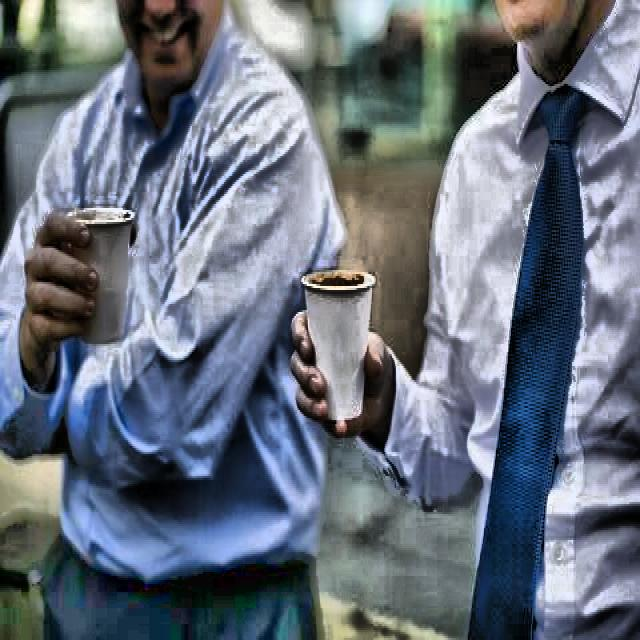Cup: (300, 264, 377, 431), (63, 203, 136, 349)
